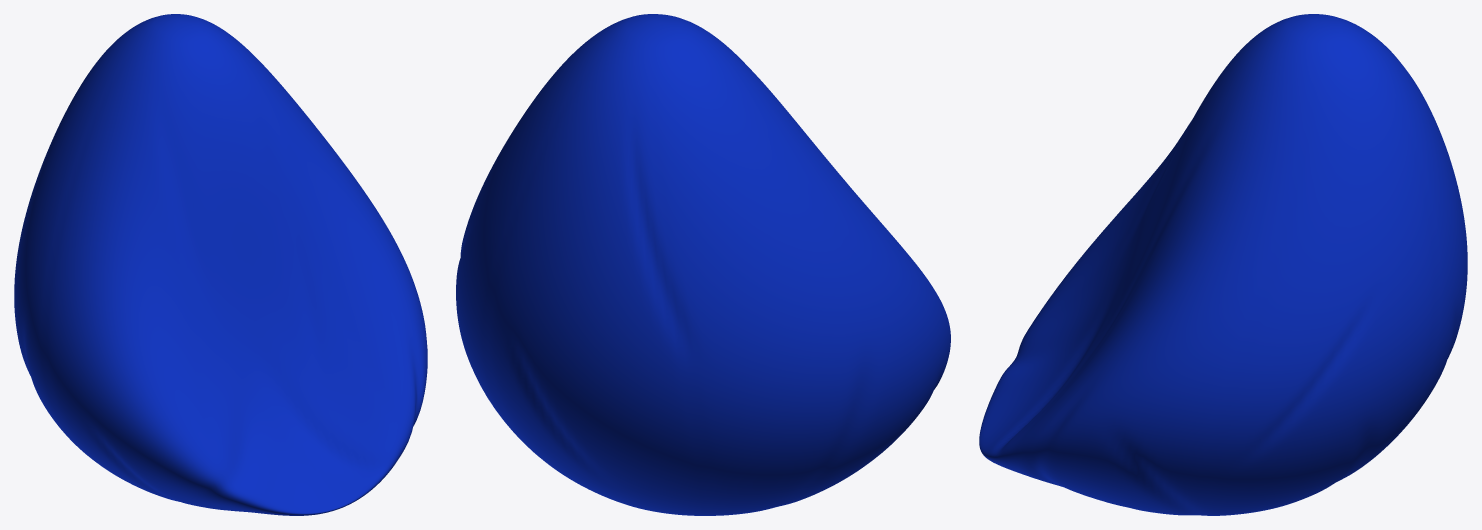
The model's file is beanBag-1.glb.
The picture shows the model from 3 angles, left to right: view 1: azimuth 30°, elevation 25°; view 2: azimuth 150°, elevation 25°; view 3: azimuth 270°, elevation 25°; orthographic projection. The views are drawn at different scales.
Parts seen in each view (by area): view 1: beanBag_1_continuous_cloth; view 2: beanBag_1_continuous_cloth; view 3: beanBag_1_continuous_cloth.
Boxes of the visible parts, x1,y1,x2,y2 form: beanBag_1_continuous_cloth: (14,14,427,515); beanBag_1_continuous_cloth: (456,14,950,515); beanBag_1_continuous_cloth: (979,14,1467,515).
Bounding box in the file's own units: 0.88 × 0.96 × 0.96.
